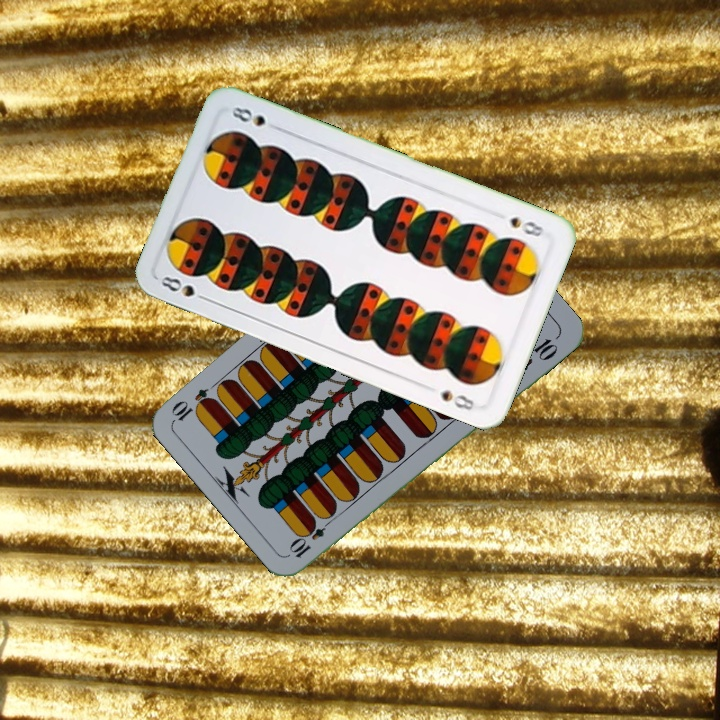E10: (286, 513, 336, 561)
S8: (157, 272, 213, 305), (506, 212, 547, 240)
